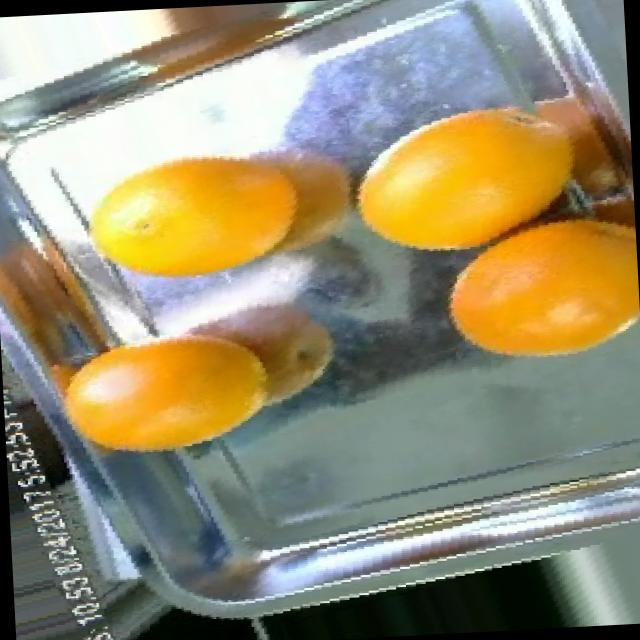Fruit: (424, 210, 638, 380)
